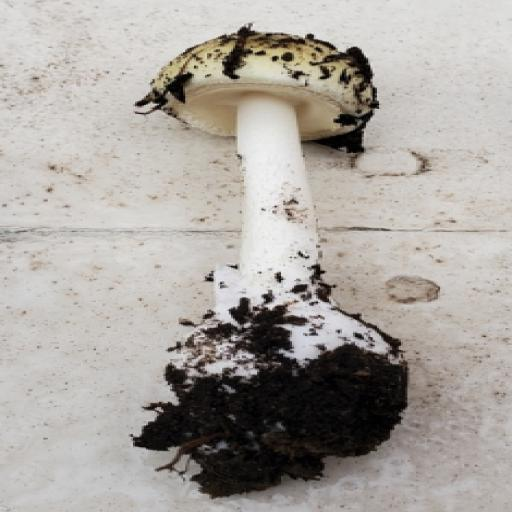mushroom: (133, 9, 386, 160)
